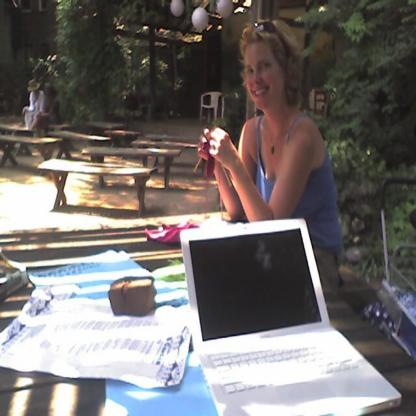board: (174, 202, 390, 413)
